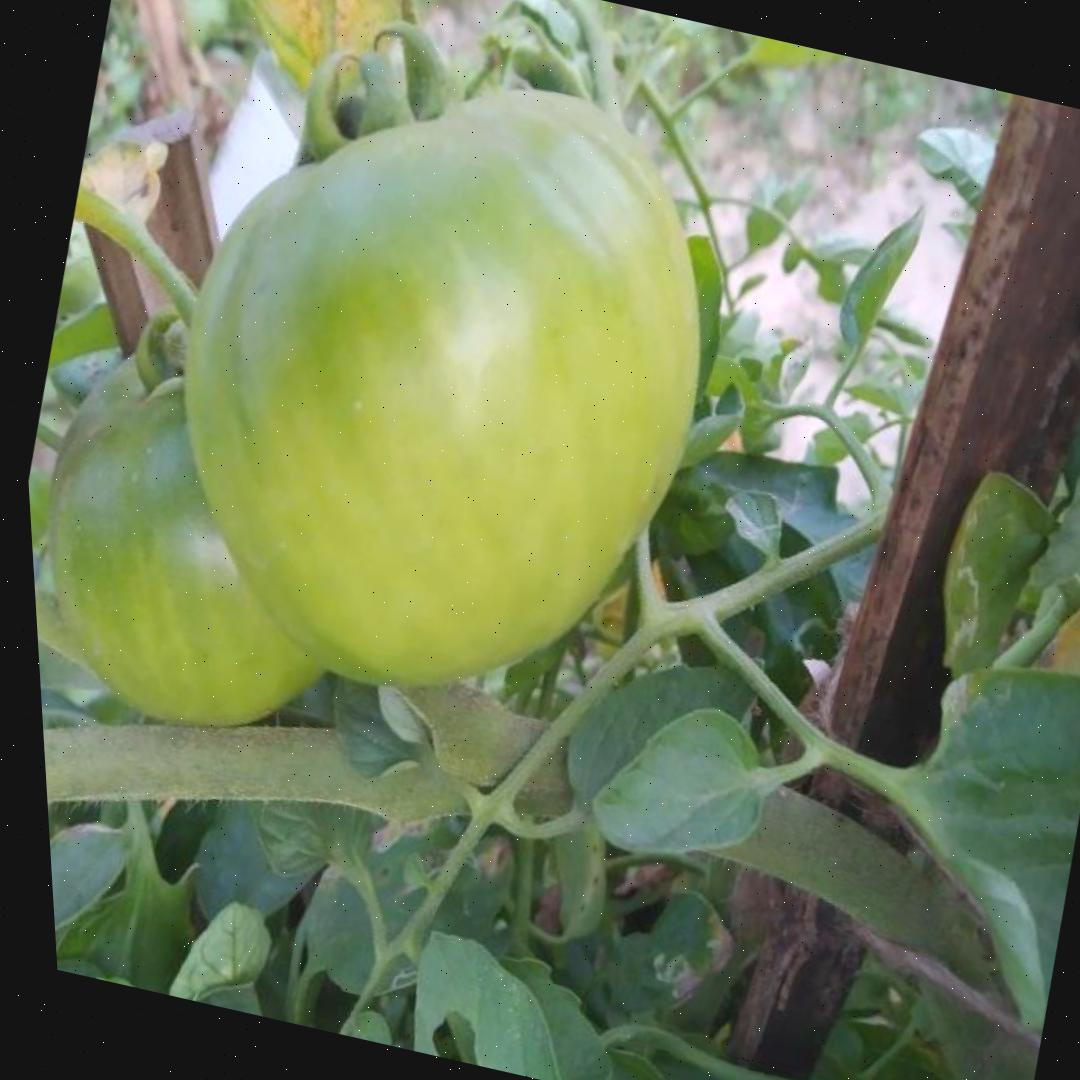mentah: (98, 20, 778, 747)
